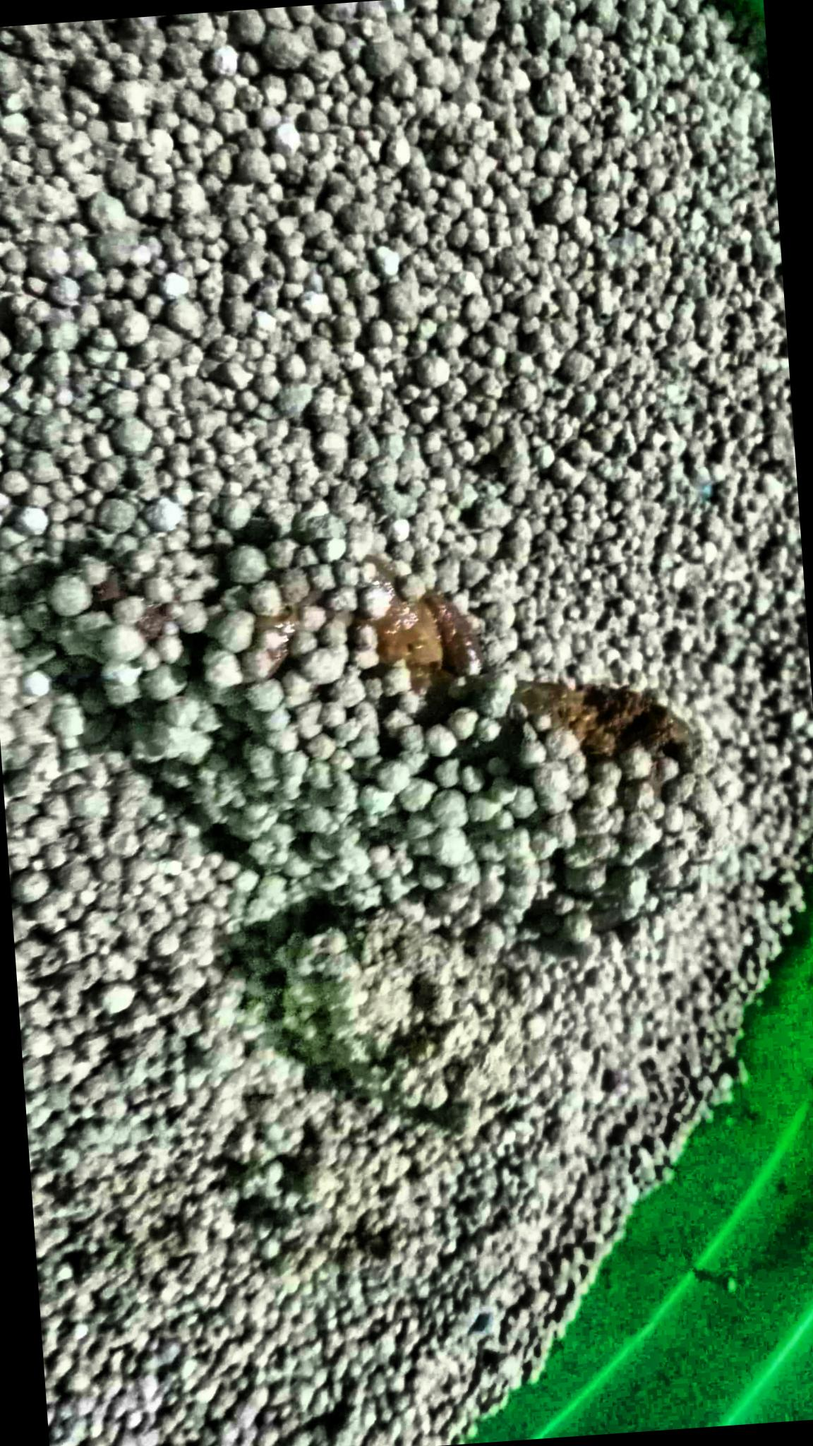poop: (31, 561, 737, 1010)
